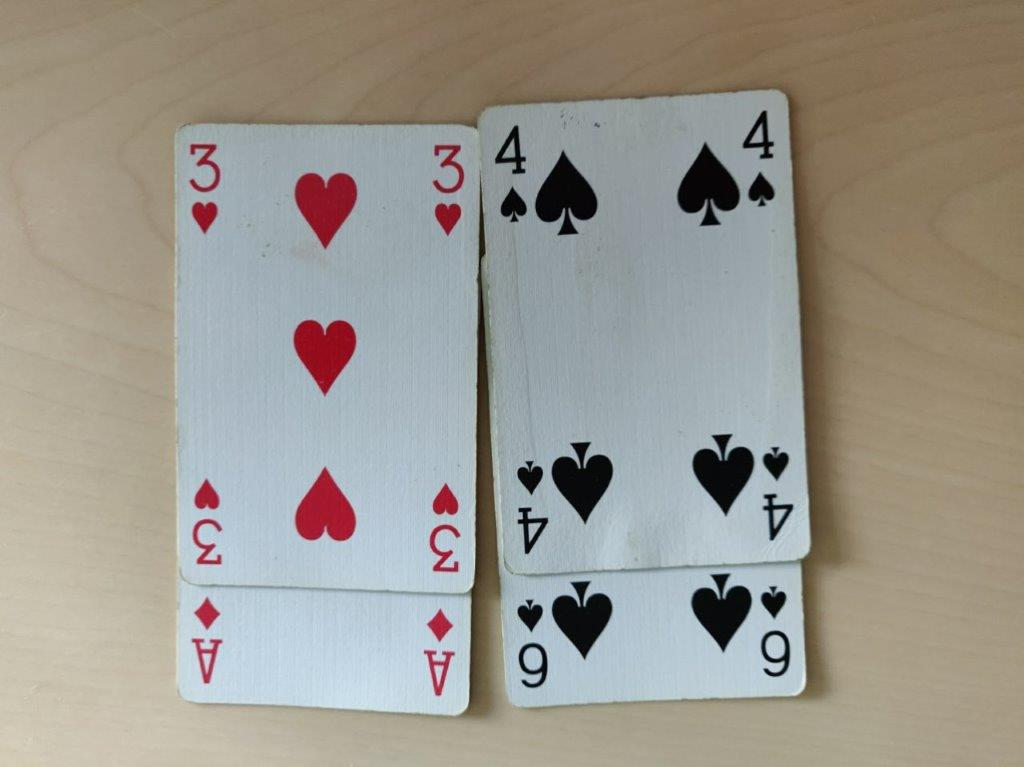3H: (178, 126, 471, 583)
4S: (482, 107, 827, 560)
6S: (501, 578, 824, 708)
AD: (175, 587, 475, 713)
